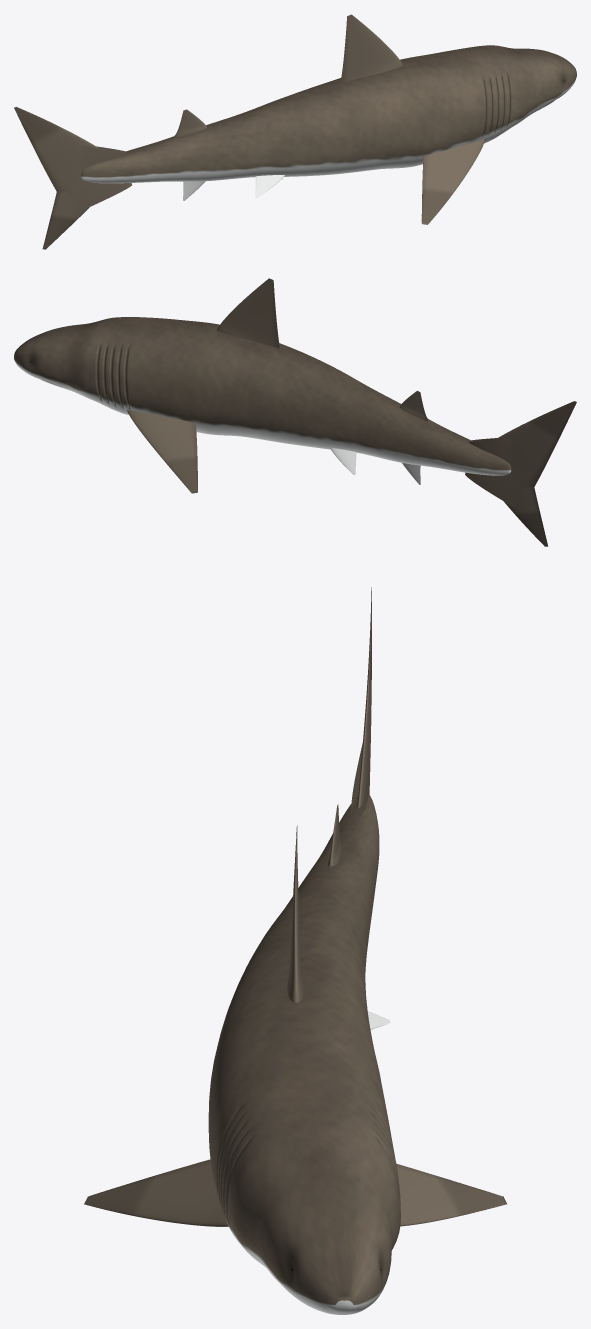
Rendered from copper_shark.glb.
3 views of the same model, one above another, from view 1: azimuth 30°, elevation 25°; view 2: azimuth 150°, elevation 25°; view 3: azimuth 270°, elevation 25° (orthographic). The views are drawn at different scales.
Visible parts, largest first — view 1: copper_shark_Body, copper_shark_Fins; view 2: copper_shark_Body, copper_shark_Fins; view 3: copper_shark_Body, copper_shark_Fins.
Boxes of the visible parts, x1=… form: copper_shark_Body: x1=81, y1=45, x2=576, y2=183; copper_shark_Fins: x1=14, y1=14, x2=484, y2=249; copper_shark_Body: x1=14, y1=317, x2=511, y2=475; copper_shark_Fins: x1=127, y1=278, x2=576, y2=546; copper_shark_Body: x1=208, y1=794, x2=400, y2=1314; copper_shark_Fins: x1=84, y1=587, x2=506, y2=1226.
Bounding box in the file's own units: 2.7 × 0.8307 × 0.893.
Materials: 3 (1 with a texture image).
